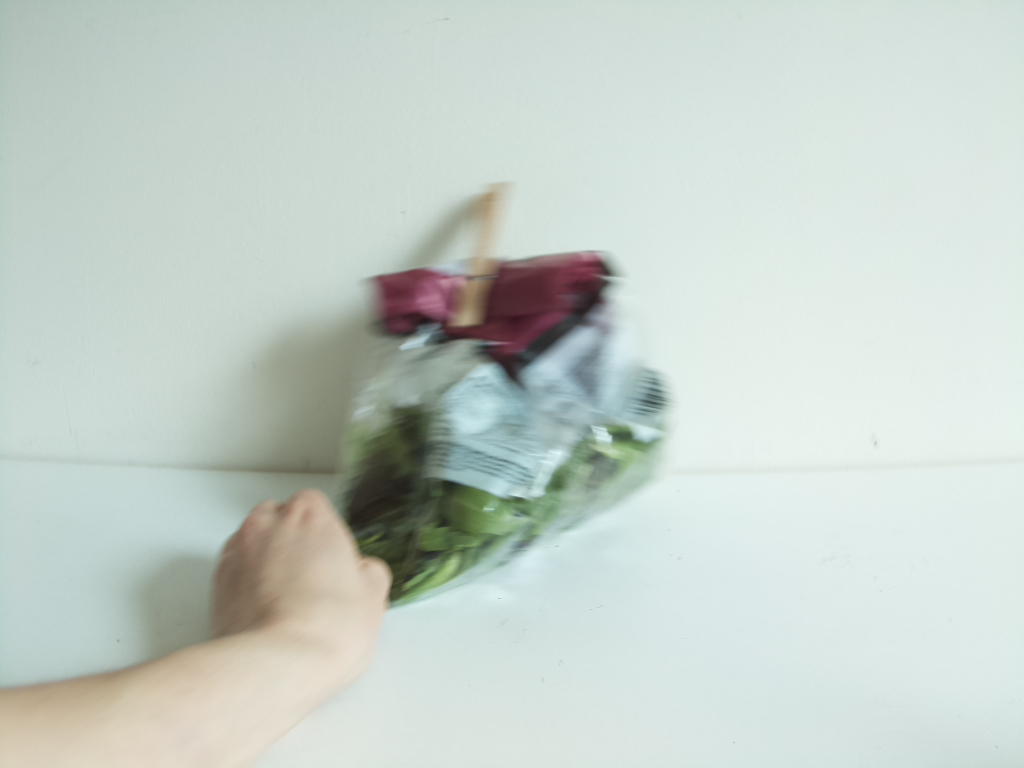salad: (340, 252, 678, 601)
